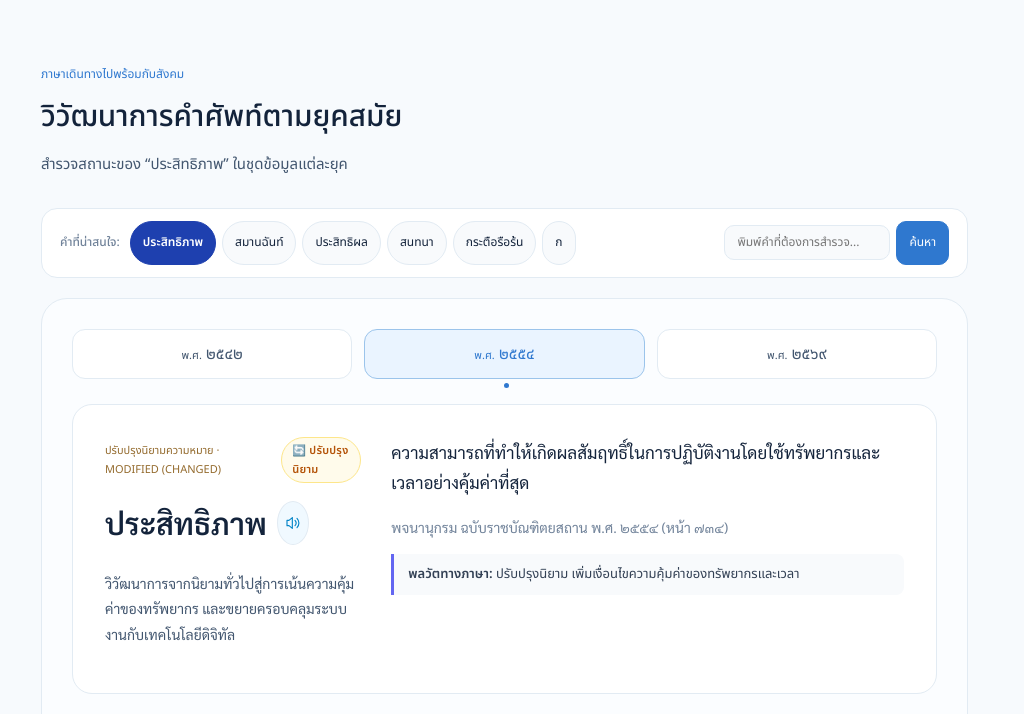
it: EvolutionExplorer Component › supports searching custom words in the search box
This screenshot has width=1024, height=714.
Type "กระตือรือร้น" into the field with placeholder "พิมพ์คำที่ต้องการสำรวจ..." at (807, 243), box [724,225,890,260]
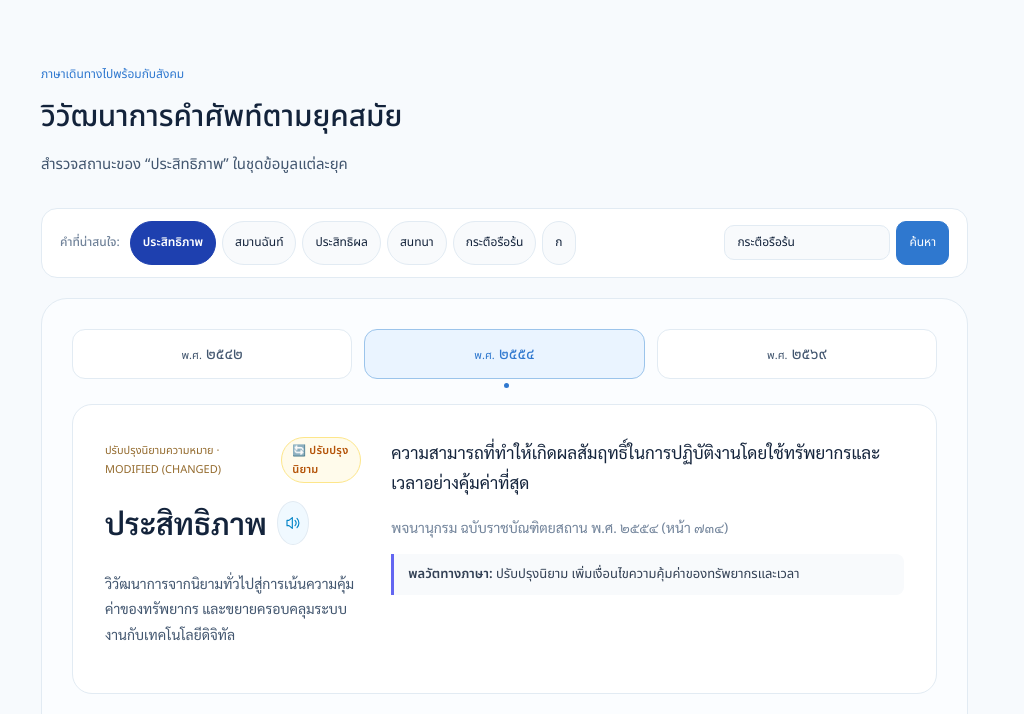
Click the button "ค้นหา" at (923, 243), box [896,221,949,265]
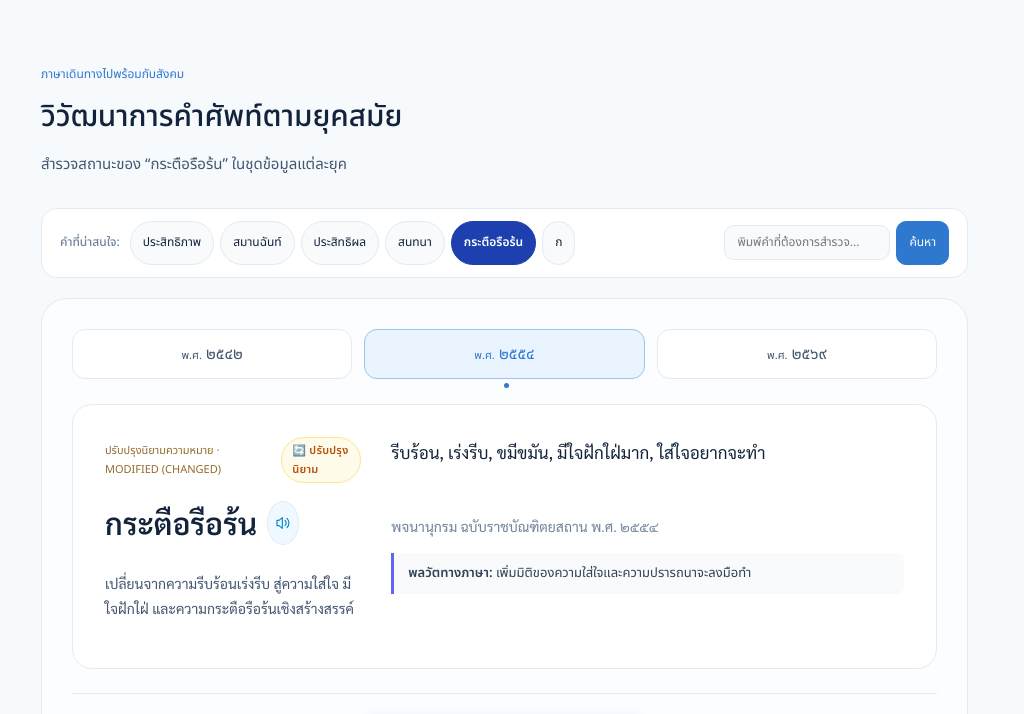
expect the heading "กระตือรือร้น" is shown: met, box [105,499,257,547]
